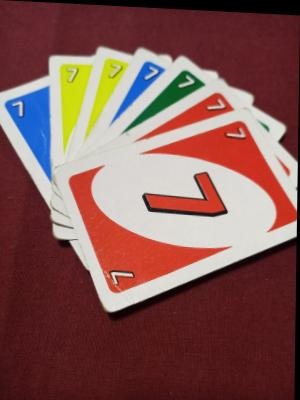num_7: (106, 262, 140, 289), (59, 58, 85, 88), (221, 118, 252, 141), (105, 54, 127, 86), (175, 67, 200, 92), (8, 94, 31, 121), (142, 56, 161, 86), (205, 92, 227, 113)
